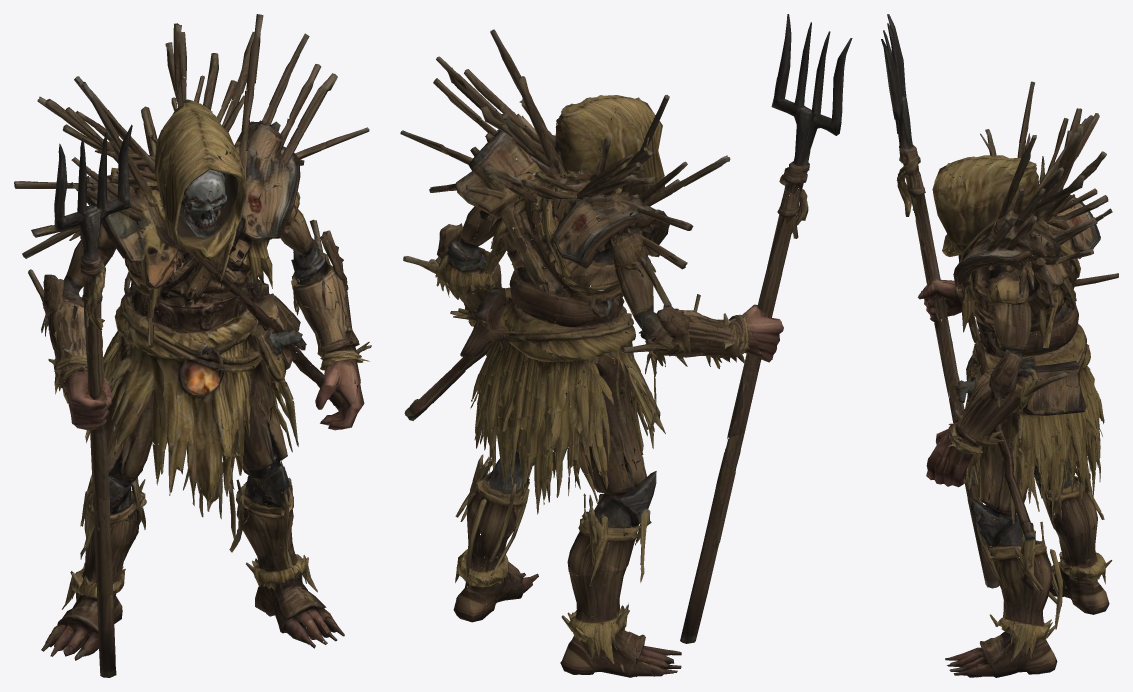
File: kratt_meshy_40k.glb
3 renders of one model, left to right at view 1: azimuth 30°, elevation 25°; view 2: azimuth 150°, elevation 25°; view 3: azimuth 270°, elevation 25°, orthographic. The views are drawn at different scales.
Visible parts, largest first — view 1: kratt; view 2: kratt; view 3: kratt.
Part boxes in pixels (x1,y1,x2,y2): kratt: (14, 14, 371, 677); kratt: (400, 14, 852, 677); kratt: (881, 14, 1118, 677).
Size of the model in its own units: 1.2 by 1.8 by 0.732.
Materials: 1 (1 with a texture image).
